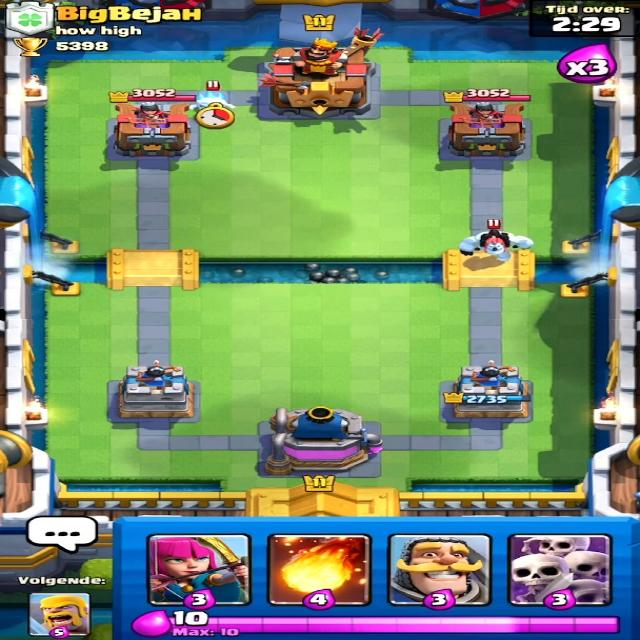Enemy_Ice_Golem_Troop: (450, 224, 531, 264)
Fireball_Card: (277, 536, 370, 603)
